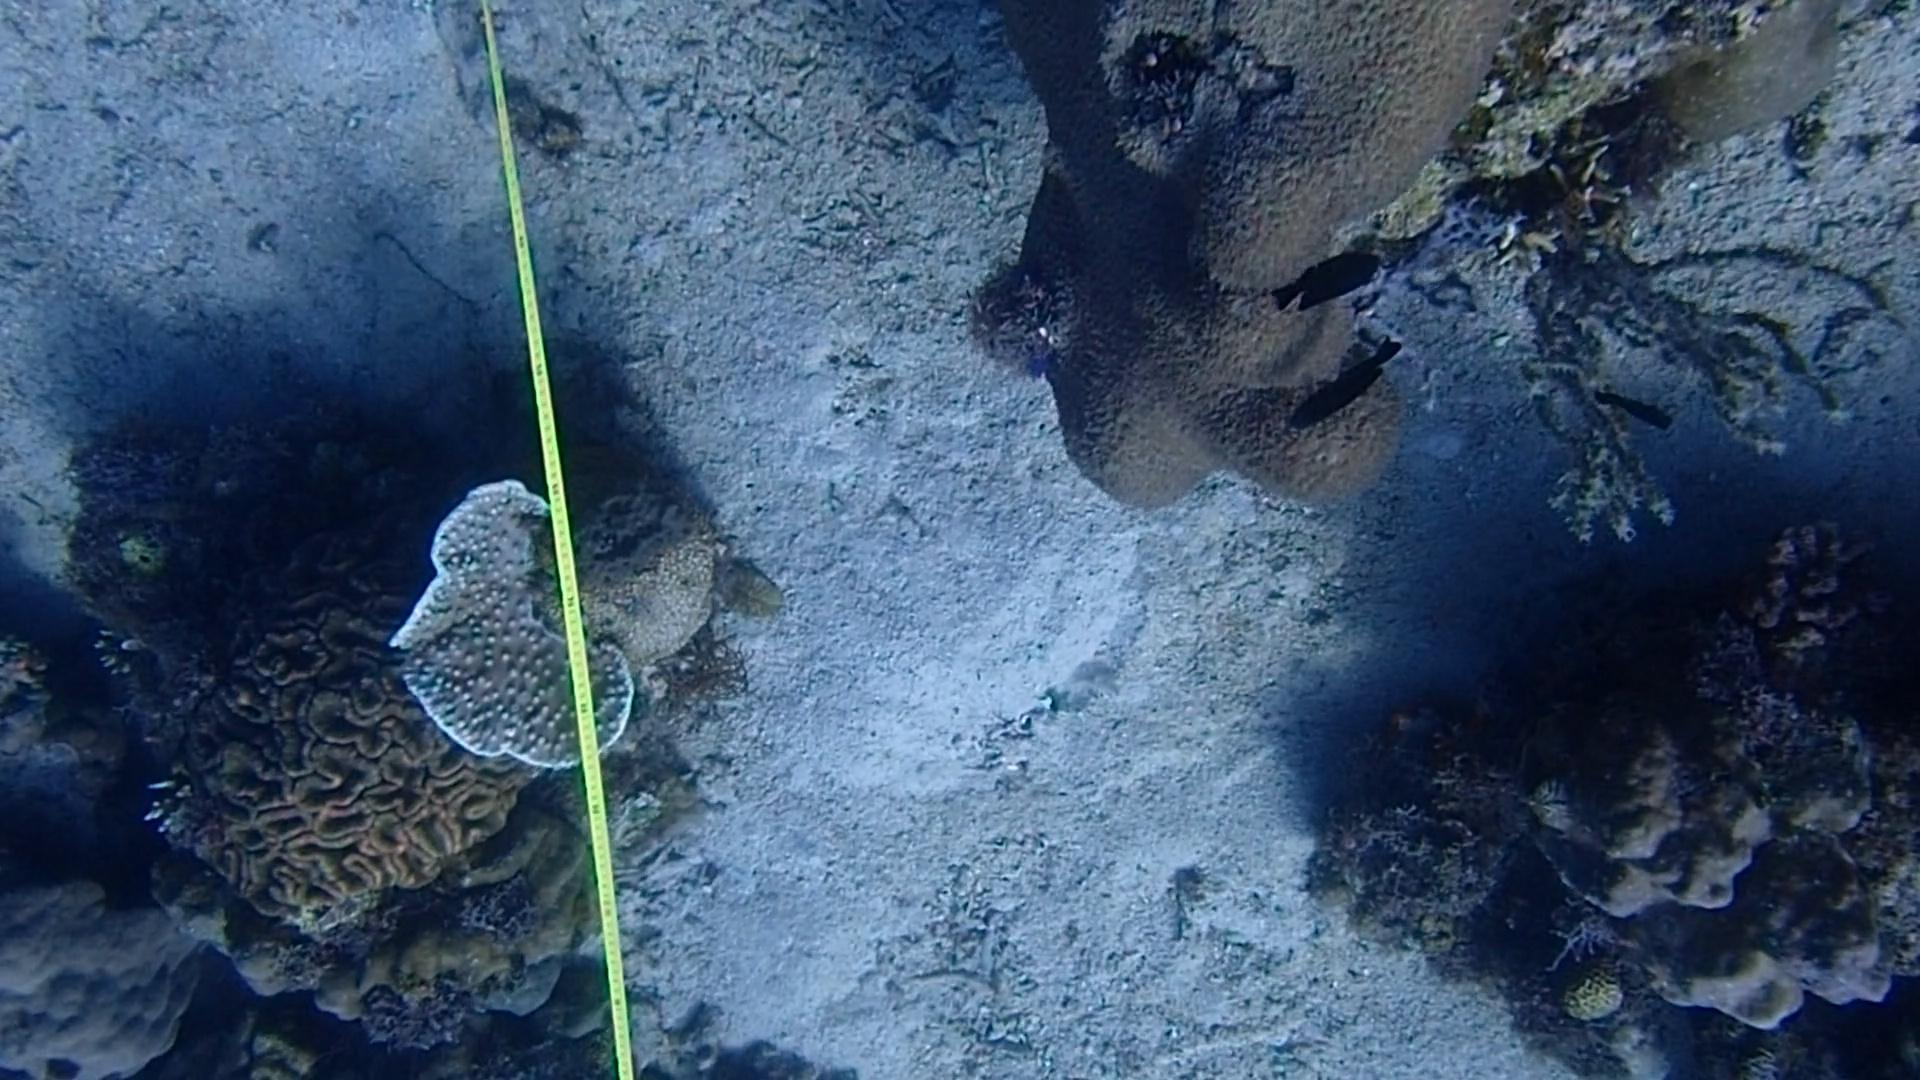Dark Fish: (1294, 344, 1416, 443), (1266, 243, 1406, 328), (1585, 378, 1684, 439)
